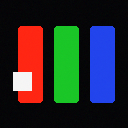1 square: (13, 72, 31, 90)
